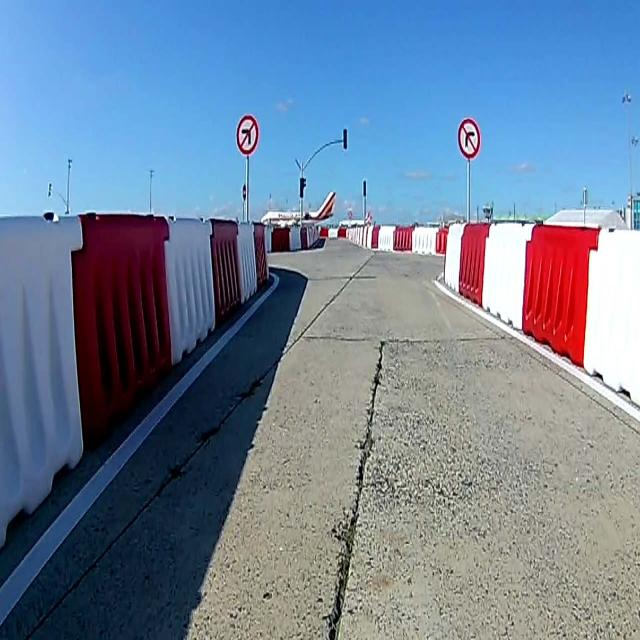sagadonulmez: (458, 117, 480, 159)
soladonulmez: (237, 114, 260, 156)
